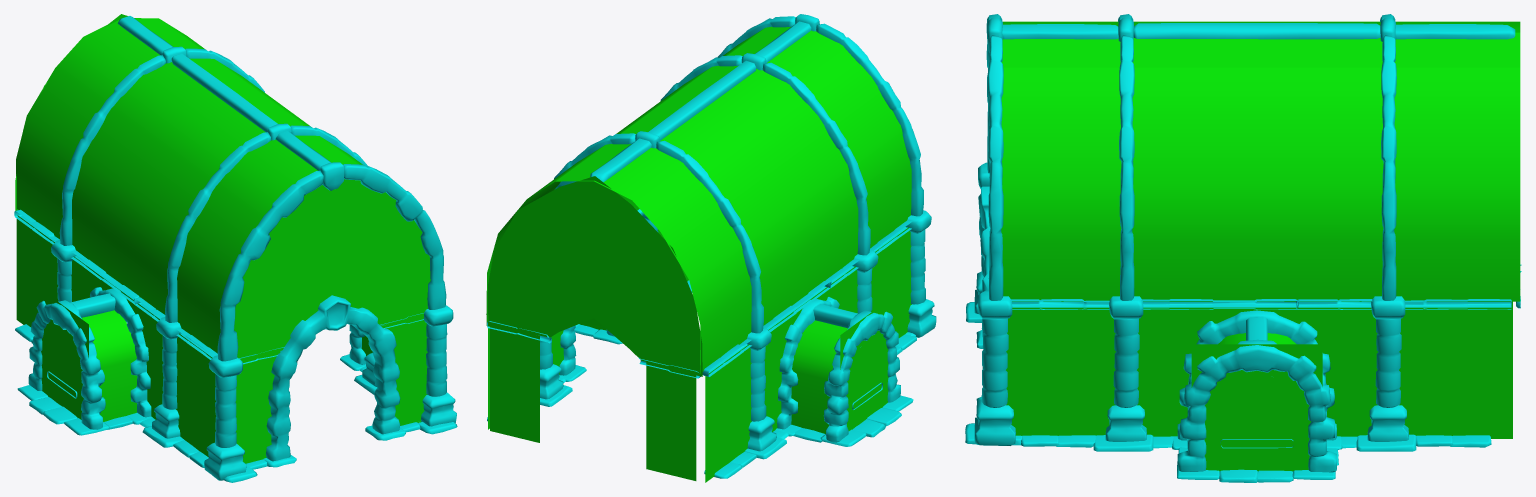
The model's file is Hallway_Straight_1.fbx.
3 views of the same model, side by side, from view 1: azimuth 30°, elevation 25°; view 2: azimuth 150°, elevation 25°; view 3: azimuth 270°, elevation 25° (orthographic). The views are drawn at different scales.
Parts seen in each view (by area): view 1: Room_Straight_1:StraightPiece_1FinishedRoomsWalls, Room_Straight_1:StraightPiece_1FinishedRoomsFrame; view 2: Room_Straight_1:StraightPiece_1FinishedRoomsWalls, Room_Straight_1:StraightPiece_1FinishedRoomsFrame; view 3: Room_Straight_1:StraightPiece_1FinishedRoomsWalls, Room_Straight_1:StraightPiece_1FinishedRoomsFrame.
Part boxes in pixels (<box>): Room_Straight_1:StraightPiece_1FinishedRoomsWalls: <box>15,14,430,463</box>; Room_Straight_1:StraightPiece_1FinishedRoomsFrame: <box>14,16,457,482</box>; Room_Straight_1:StraightPiece_1FinishedRoomsWalls: <box>486,26,911,482</box>; Room_Straight_1:StraightPiece_1FinishedRoomsFrame: <box>487,14,936,478</box>; Room_Straight_1:StraightPiece_1FinishedRoomsWalls: <box>1001,21,1520,471</box>; Room_Straight_1:StraightPiece_1FinishedRoomsFrame: <box>965,14,1521,482</box>.
Bounding box in the file's own units: 1193 × 1274 × 896.
